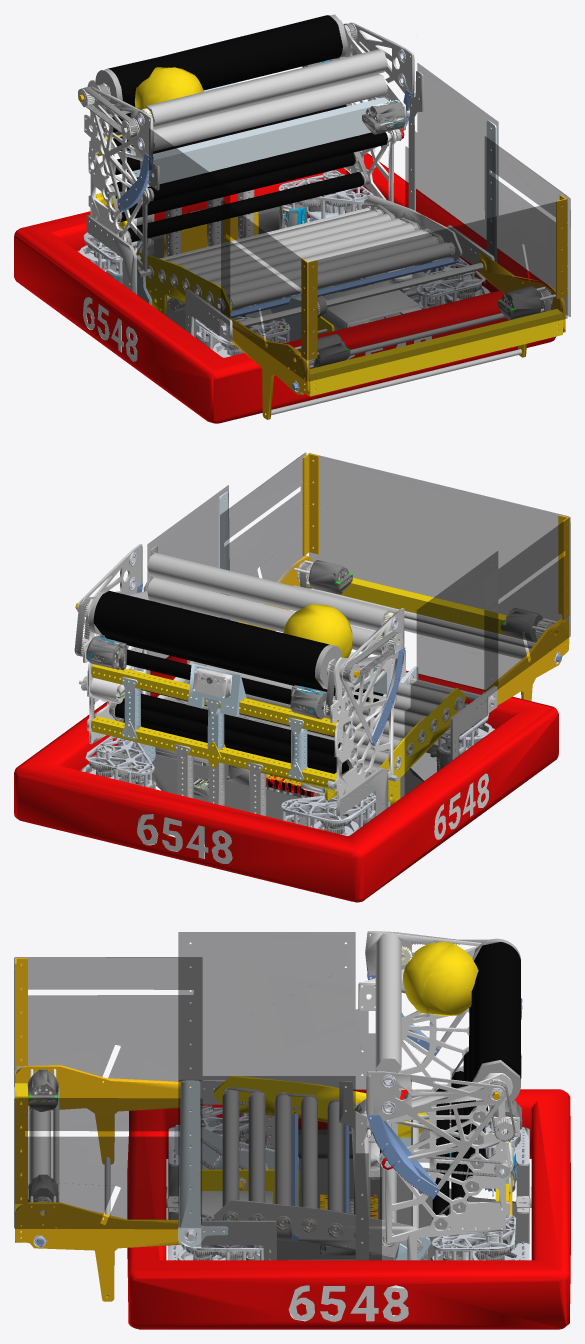
File: artemis2.glb
3 views of the same model, one above another, from view 1: azimuth 30°, elevation 25°; view 2: azimuth 150°, elevation 25°; view 3: azimuth 270°, elevation 25° (orthographic). The views are drawn at different scales.
Parts seen in each view (by area): view 1: Main_Assembly; view 2: Main_Assembly; view 3: Main_Assembly.
Boxes of the visible parts, x1,y1,x2,y2 form: Main_Assembly: (14,14,570,423); Main_Assembly: (14,452,570,902); Main_Assembly: (14,931,570,1329).
Size of the model in its own units: 0.9209 by 0.5664 by 1.08.
